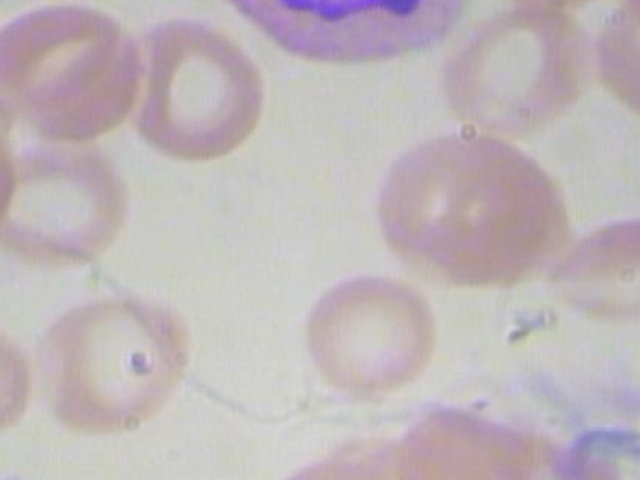Platelets: (0, 471, 46, 480)
RBC: (372, 127, 578, 295), (24, 282, 196, 444), (103, 19, 266, 159), (435, 0, 598, 139), (284, 268, 440, 406), (0, 131, 140, 271), (0, 0, 137, 139), (541, 190, 640, 329), (573, 0, 640, 127), (0, 298, 40, 446), (258, 442, 410, 480)
WBC: (164, 0, 492, 65)
